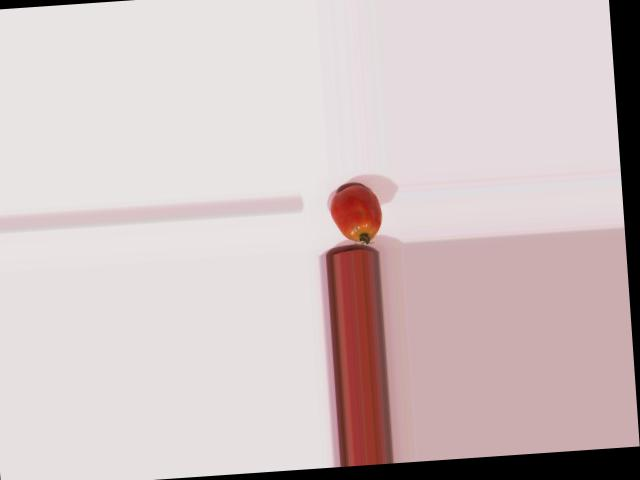tomato: (328, 184, 382, 243)
